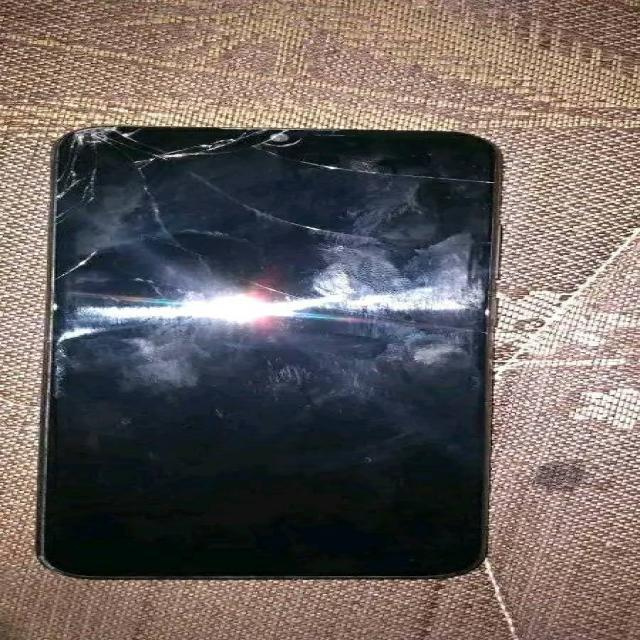phone: (54, 133, 498, 576)
